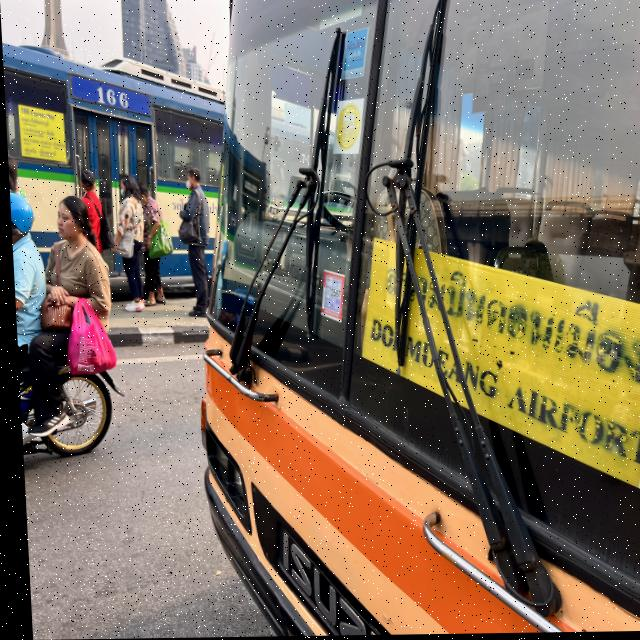BMTA-bus: (172, 0, 640, 638)
Destination Sign: (358, 240, 640, 489)
